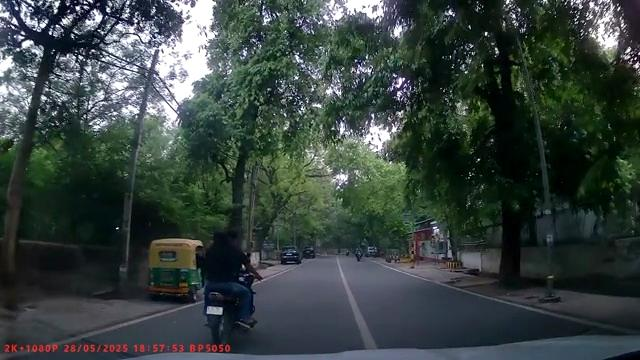motorcycle_without_helmet: (202, 225, 258, 342)
